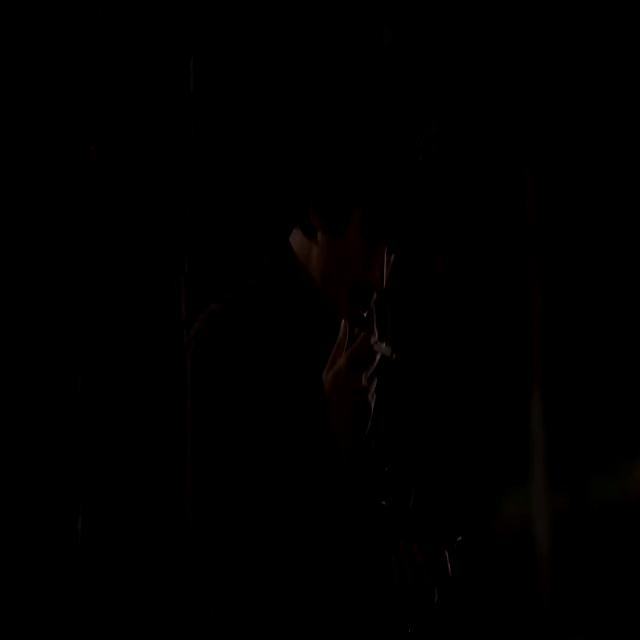Smooking: (370, 329, 401, 370)
